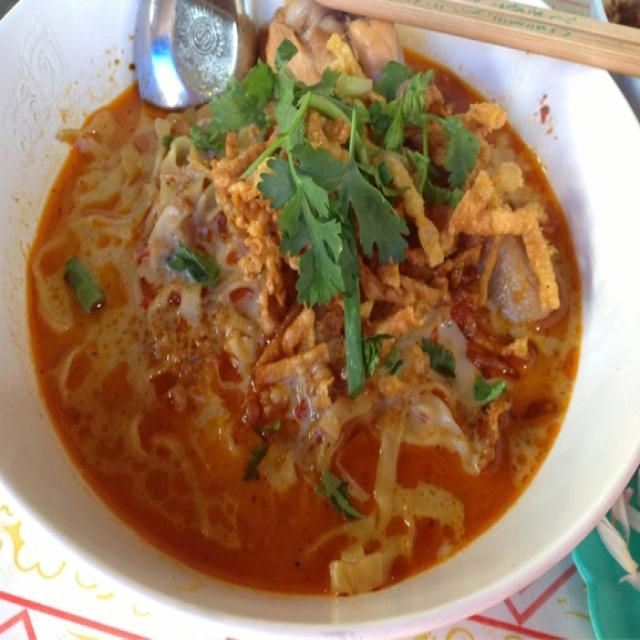面条主食: (40, 28, 583, 584)
